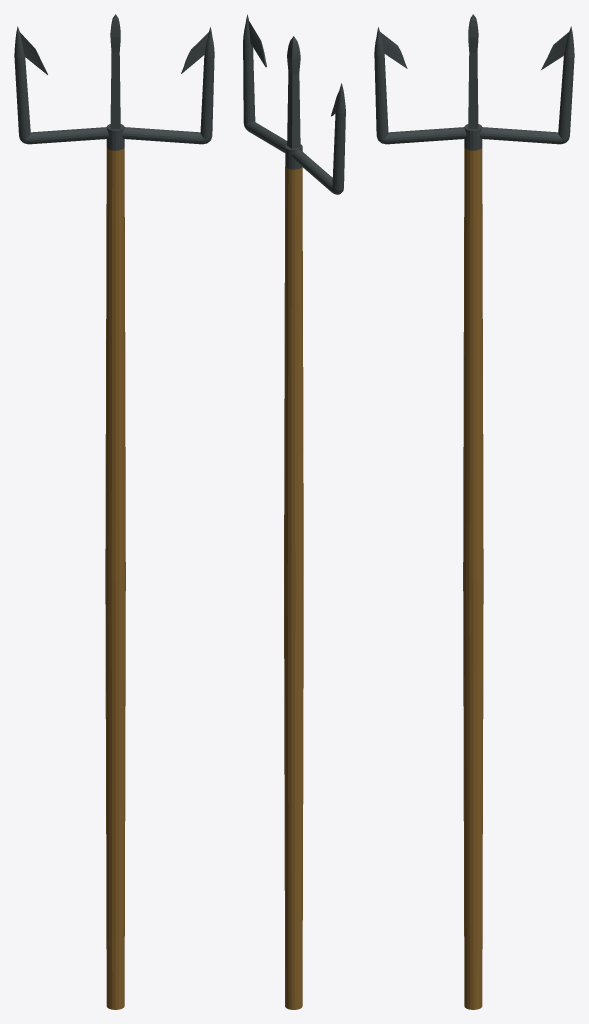
Rendered from Tridens.fbx.
The picture shows the model from 3 angles, left to right: view 1: azimuth 90°, elevation 25°; view 2: azimuth 210°, elevation 25°; view 3: azimuth 270°, elevation 25°; orthographic projection. The views are drawn at different scales.
Parts seen in each view (by area): view 1: Tridens Monocolor; view 2: Tridens Monocolor; view 3: Tridens Monocolor.
Part boxes in pixels (x1=…): Tridens Monocolor: x1=14, y1=14, x2=214, y2=1009; Tridens Monocolor: x1=243, y1=14, x2=345, y2=1009; Tridens Monocolor: x1=374, y1=14, x2=574, y2=1009.
Bounding box in the file's own units: 3.16 × 169 × 30.97.
